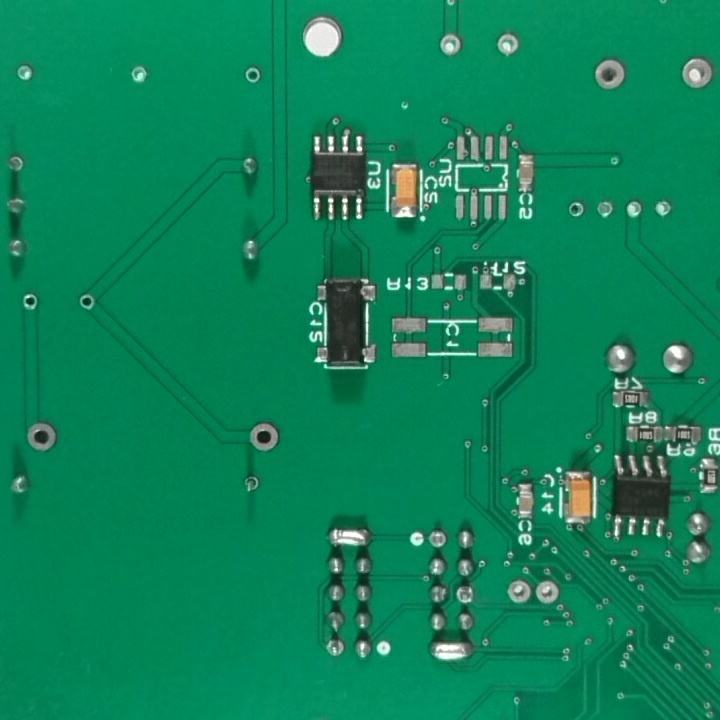F: (23, 418, 60, 458), (593, 54, 630, 94), (244, 420, 281, 457), (680, 53, 714, 92), (493, 30, 524, 63), (505, 577, 533, 608), (534, 578, 560, 606), (435, 33, 464, 57), (624, 198, 647, 221), (127, 63, 153, 83), (324, 638, 348, 659), (19, 292, 43, 313), (16, 61, 37, 85), (4, 152, 25, 176), (77, 291, 98, 314), (595, 197, 616, 220), (454, 586, 478, 606), (426, 528, 448, 549), (239, 473, 259, 495), (654, 198, 674, 220), (566, 200, 587, 220), (242, 65, 264, 83)
P: (427, 638, 474, 666), (324, 523, 373, 549)
